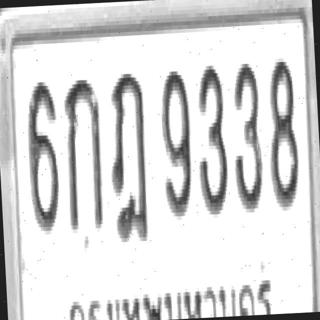A01: (61, 75, 106, 234)
A14: (105, 68, 152, 244)
N03: (193, 61, 230, 215), (229, 60, 265, 214)
N06: (24, 76, 62, 234)
N08: (265, 52, 301, 210)
N09: (158, 65, 194, 219)
